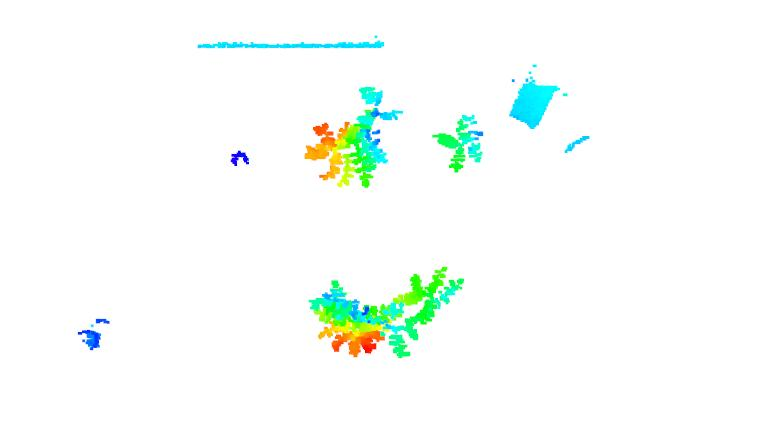chickpea: (301, 85, 402, 189), (387, 265, 465, 360), (305, 278, 390, 358), (430, 110, 487, 173)
